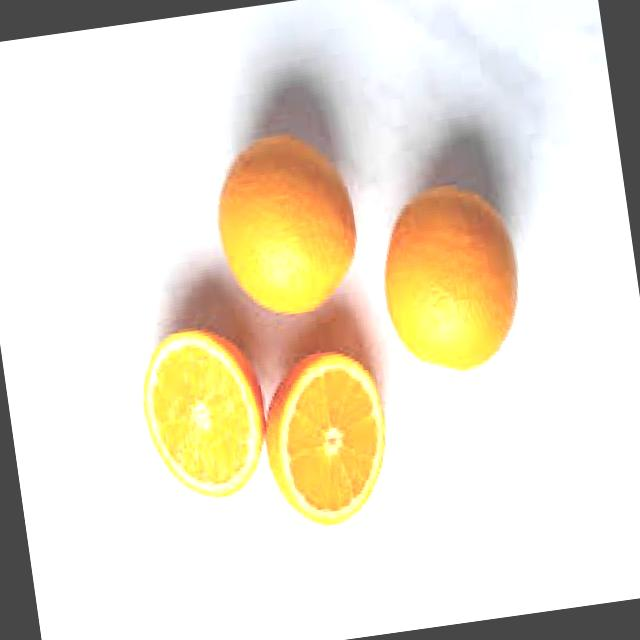Orange: (368, 178, 532, 382), (205, 127, 366, 326), (253, 346, 399, 536), (132, 323, 276, 509)
